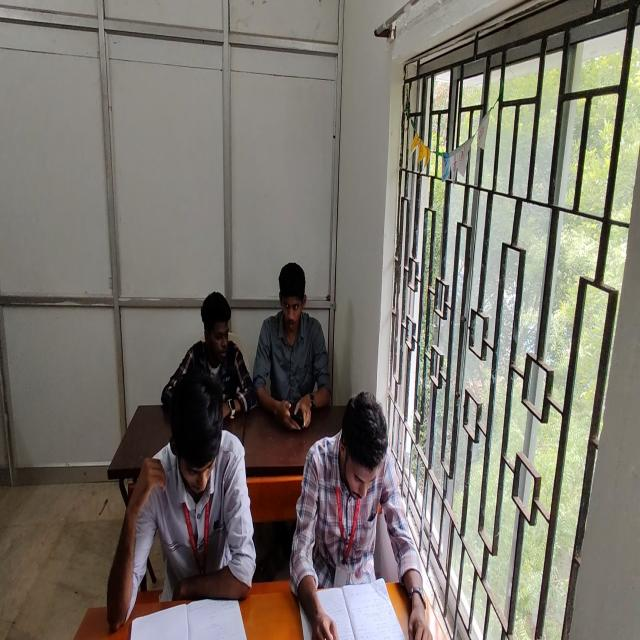reading: (108, 370, 256, 628), (292, 392, 414, 640)
using_mobile: (161, 289, 257, 422), (252, 262, 329, 427)
